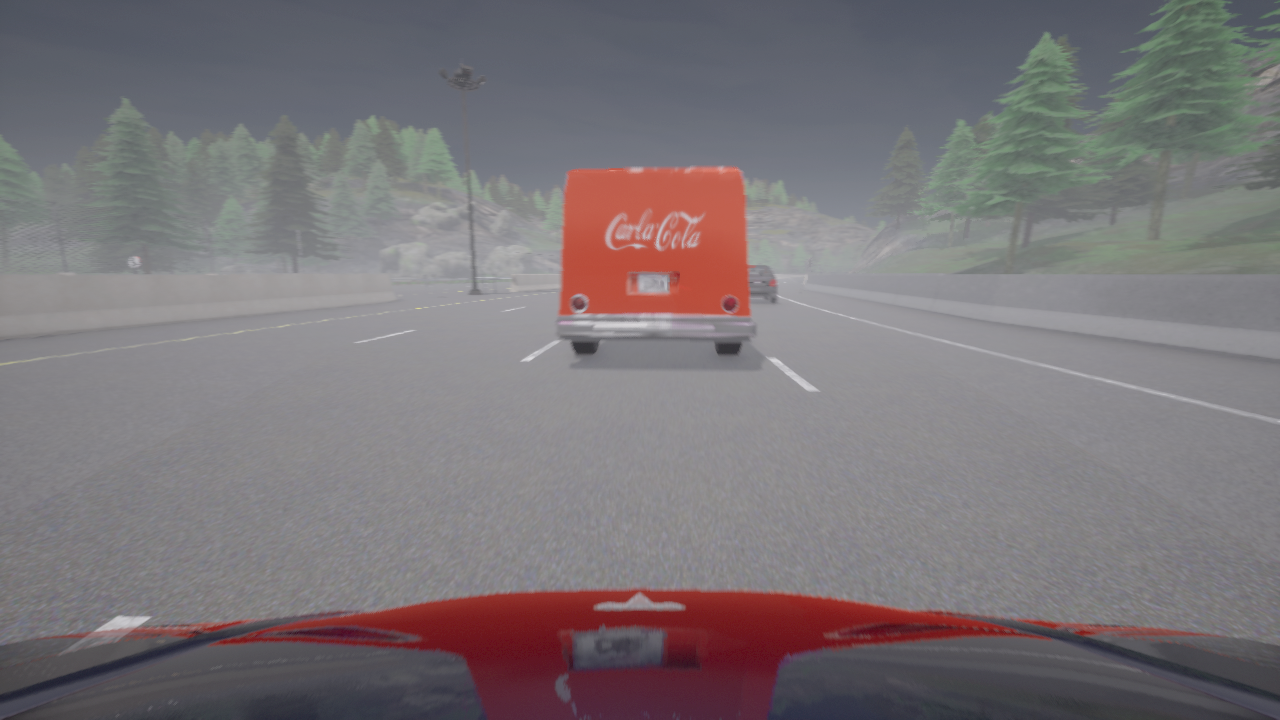cyclist: (0, 588, 1279, 719), (556, 168, 756, 355), (748, 265, 777, 303)
